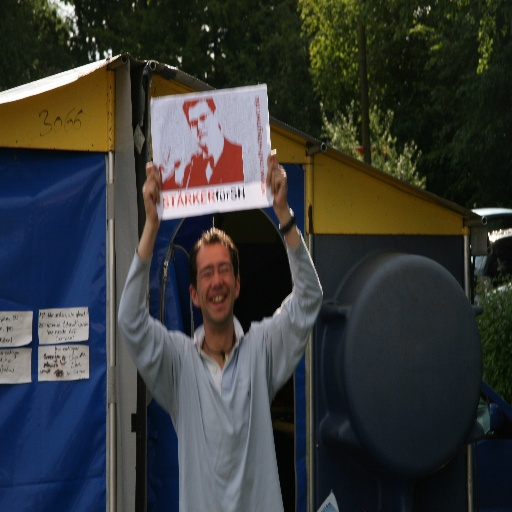hand: (263, 148, 296, 226), (140, 162, 161, 231)
